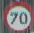Speed limit: (3, 0, 32, 32)
